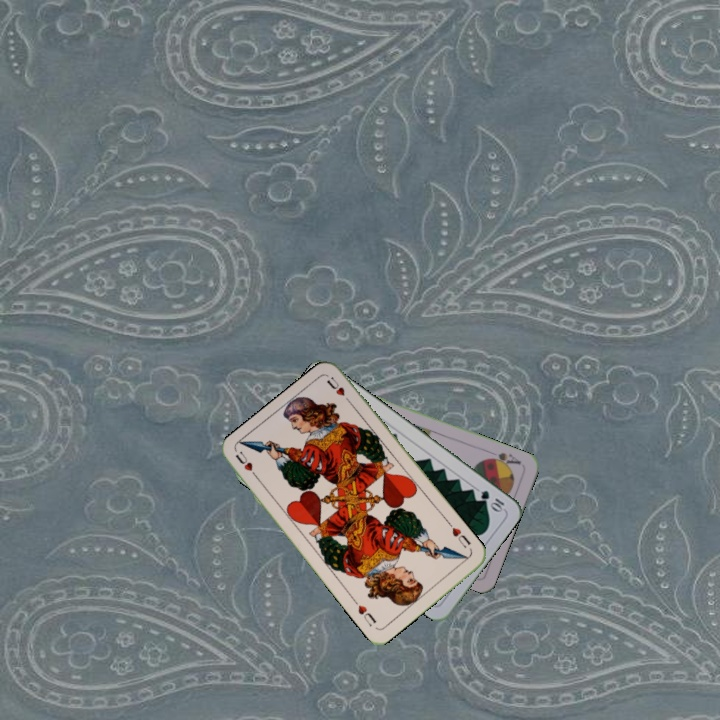G10: (477, 486, 508, 514)
HU: (232, 447, 262, 483), (448, 523, 473, 550)
SA: (483, 448, 524, 470)
